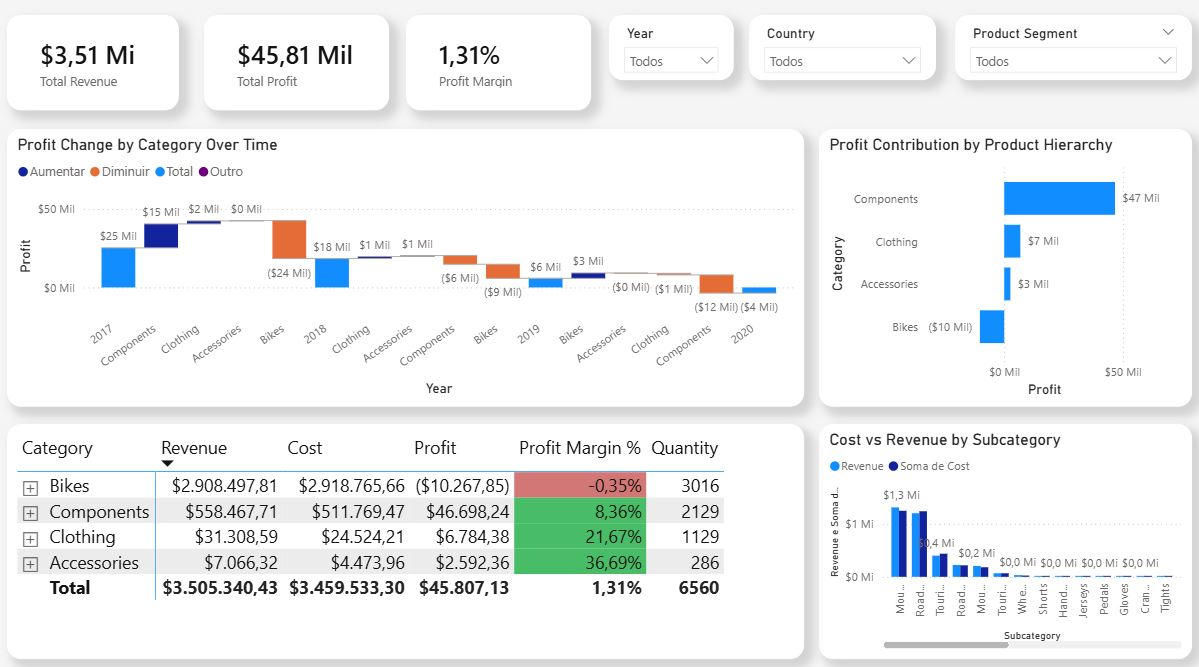

Layout of this report page (visuals, bound fields, positions):
{"tool":"powerbi","page":{"name":"Profitability & Product Mix","canvas":[1280,720],"ordinal":1},"visuals":[{"type":"waterfallChart","title":"Profit Change by Category Over Time","fields":{"Breakdown":["Products.Category"],"Category":["Sales.OrderDate.Variation.Date Hierarchy.Year"],"Y":["Key Measures.Profit"]},"box":[12.7,147.2,843.8,294.3],"z":0},{"type":"clusteredBarChart","title":"Profit Contribution by Product Hierarchy","fields":{"Category":["Products.Category","Products.Subcategory","Products.Product"],"Y":["Key Measures.Profit"]},"box":[872.4,147.2,394.9,294.3],"z":1000},{"type":"slicer","fields":{"Values":["Products.Product Segment"]},"box":[1016.4,26.5,250.9,68.8],"z":2000},{"type":"slicer","fields":{"Values":["Region.Country"]},"box":[798.3,26.5,198,68.8],"z":4000},{"type":"slicer","fields":{"Values":["Sales.OrderDate.Variation.Date Hierarchy.Year"]},"box":[650.1,26.5,132.3,68.8],"z":5000},{"type":"clusteredColumnChart","title":"Cost vs Revenue by Subcategory","fields":{"Category":["Products.Subcategory"],"Y":["Key Measures.Revenue","Sum(Sales.Cost)"]},"box":[872.4,459.5,394.9,248.8],"z":6000},{"type":"pivotTable","fields":{"Rows":["Products.Category","Products.Subcategory","Products.Product"],"Values":["Key Measures.Revenue","Sum(Sales.Cost)","Key Measures.Profit","Key Measures.Profit Margin","Sum(Sales.Quantity)"]},"box":[12.7,459.5,843.8,248.8],"z":6001},{"type":"cardVisual","fields":{"Data":["Key Measures.Revenue"]},"box":[12.7,26.5,182.1,100.6],"z":6002},{"type":"cardVisual","fields":{"Data":["Key Measures.Profit"]},"box":[221.3,26.5,195.9,100.6],"z":6003},{"type":"cardVisual","fields":{"Data":["Key Measures.Profit Margin"]},"box":[435.1,26.5,195.9,100.6],"z":6004}]}

Visuals, with their boxes in screenshot pixels (x1, y1, x2, y2), scaled from the page's 1280x720 canvas onto the 1199x667 screenshot:
"Profit Change by Category Over Time" waterfallChart: [12,136,802,409]
"Profit Contribution by Product Hierarchy" clusteredBarChart: [817,136,1187,409]
slicer - Products.Product Segment: [952,25,1187,88]
slicer - Region.Country: [748,25,933,88]
slicer - Sales.OrderDate.Variation.Date Hierarchy.Year: [609,25,733,88]
"Cost vs Revenue by Subcategory" clusteredColumnChart: [817,426,1187,656]
pivotTable - Products.Category x Products.Subcategory: [12,426,802,656]
cardVisual - Key Measures.Revenue: [12,25,182,118]
cardVisual - Key Measures.Profit: [207,25,391,118]
cardVisual - Key Measures.Profit Margin: [408,25,591,118]
